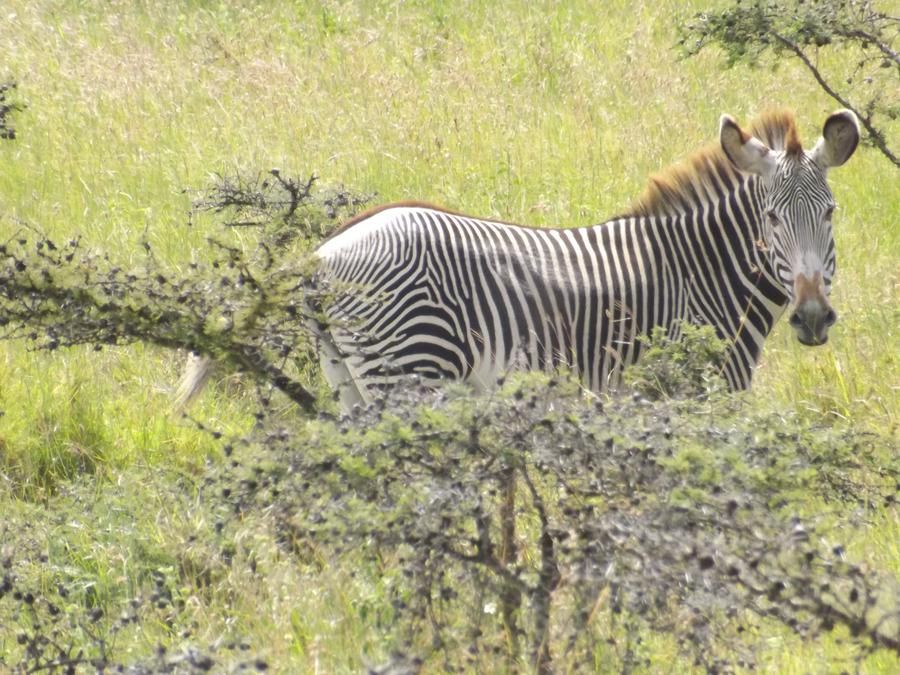zebra_grevys: (308, 216, 746, 369)
